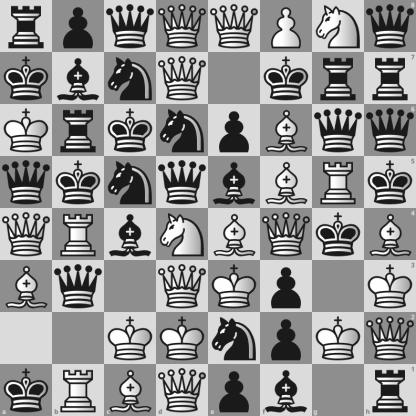B: (104, 364, 156, 416), (364, 209, 416, 260), (1, 261, 52, 312), (209, 209, 260, 260), (261, 105, 312, 156), (261, 157, 312, 208)
K: (364, 260, 416, 312), (1, 105, 52, 156), (105, 313, 156, 364), (157, 313, 208, 364), (209, 261, 260, 312), (313, 313, 364, 364)
N: (157, 209, 208, 260), (313, 1, 364, 52)
P: (261, 1, 312, 52)
Q: (156, 364, 209, 416), (364, 312, 416, 364), (1, 209, 52, 260), (157, 1, 208, 52), (157, 53, 208, 104), (157, 261, 208, 312), (209, 1, 260, 52), (261, 209, 312, 260)
R: (52, 364, 104, 416), (53, 209, 104, 260), (313, 157, 364, 208)
b: (260, 364, 312, 416), (53, 53, 104, 104), (105, 209, 156, 260), (209, 157, 260, 208)
board: (0, 0, 415, 415)
k: (364, 156, 416, 209), (0, 364, 52, 416), (1, 53, 52, 104), (53, 157, 104, 208), (105, 105, 156, 156), (261, 53, 312, 104), (313, 209, 364, 260)
n: (105, 53, 156, 104), (105, 157, 156, 208), (157, 105, 208, 156), (209, 313, 260, 364)
p: (209, 364, 260, 416), (53, 1, 104, 52), (209, 105, 260, 156), (261, 261, 312, 312), (261, 313, 312, 364)
q: (364, 0, 416, 52), (364, 104, 416, 156), (1, 157, 52, 208), (53, 261, 104, 312), (105, 1, 156, 52), (157, 157, 208, 208), (313, 105, 364, 156)
r: (364, 52, 416, 104), (364, 364, 416, 416), (1, 1, 52, 52), (53, 105, 104, 156), (313, 53, 364, 104)
